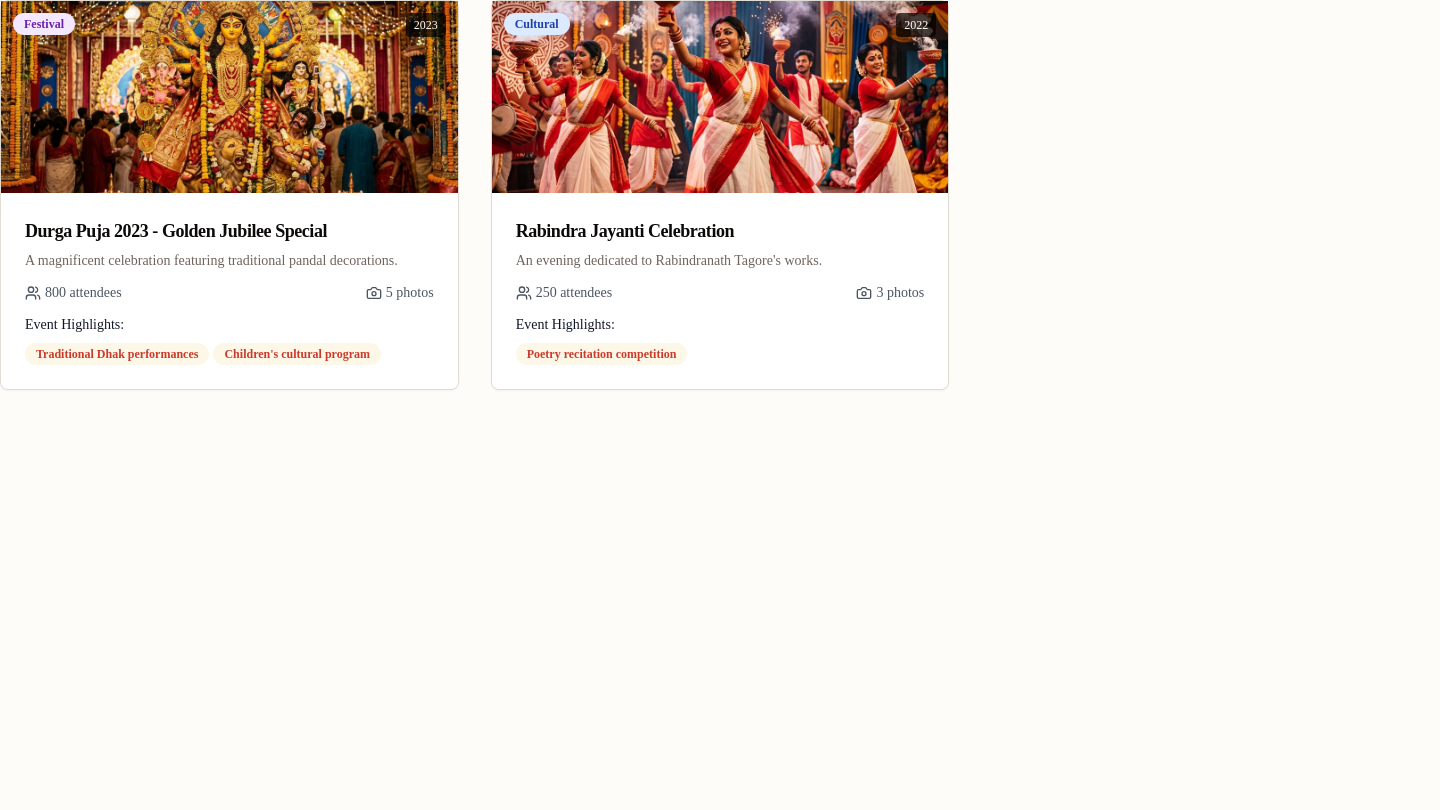
it: PastYearsGallery Component › opens full image viewer when a thumbnail inside modal is clicked
This screenshot has width=1440, height=810.
Open modal
Click the text "Durga Puja 2023 - Golden Jubilee Special".
click(176, 231)  # box x1=25 y1=221 x2=327 y2=241
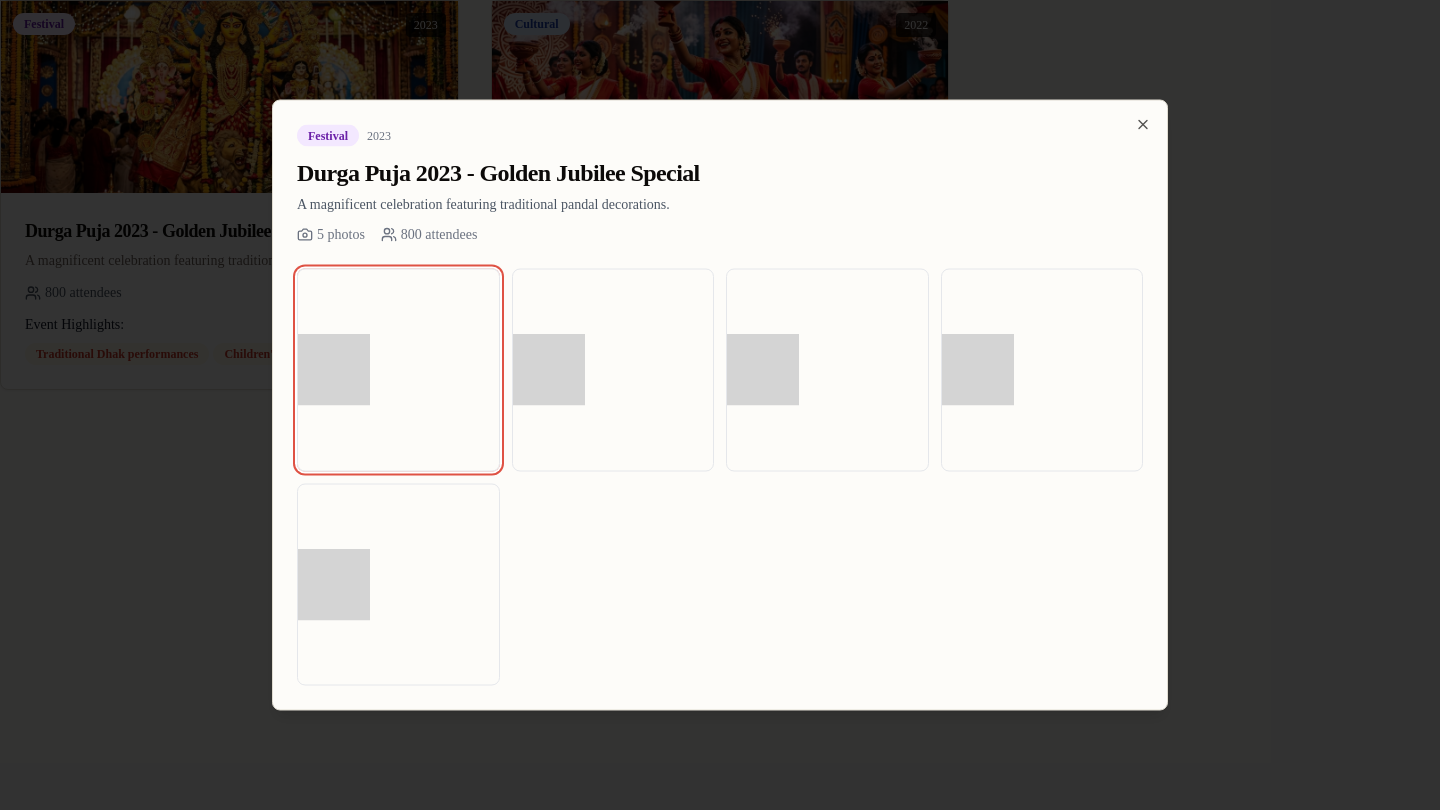
Click the first thumbnail in modal
Click the 2nd button named "Event photo".
click(398, 370)  # box x1=297 y1=268 x2=500 y2=471
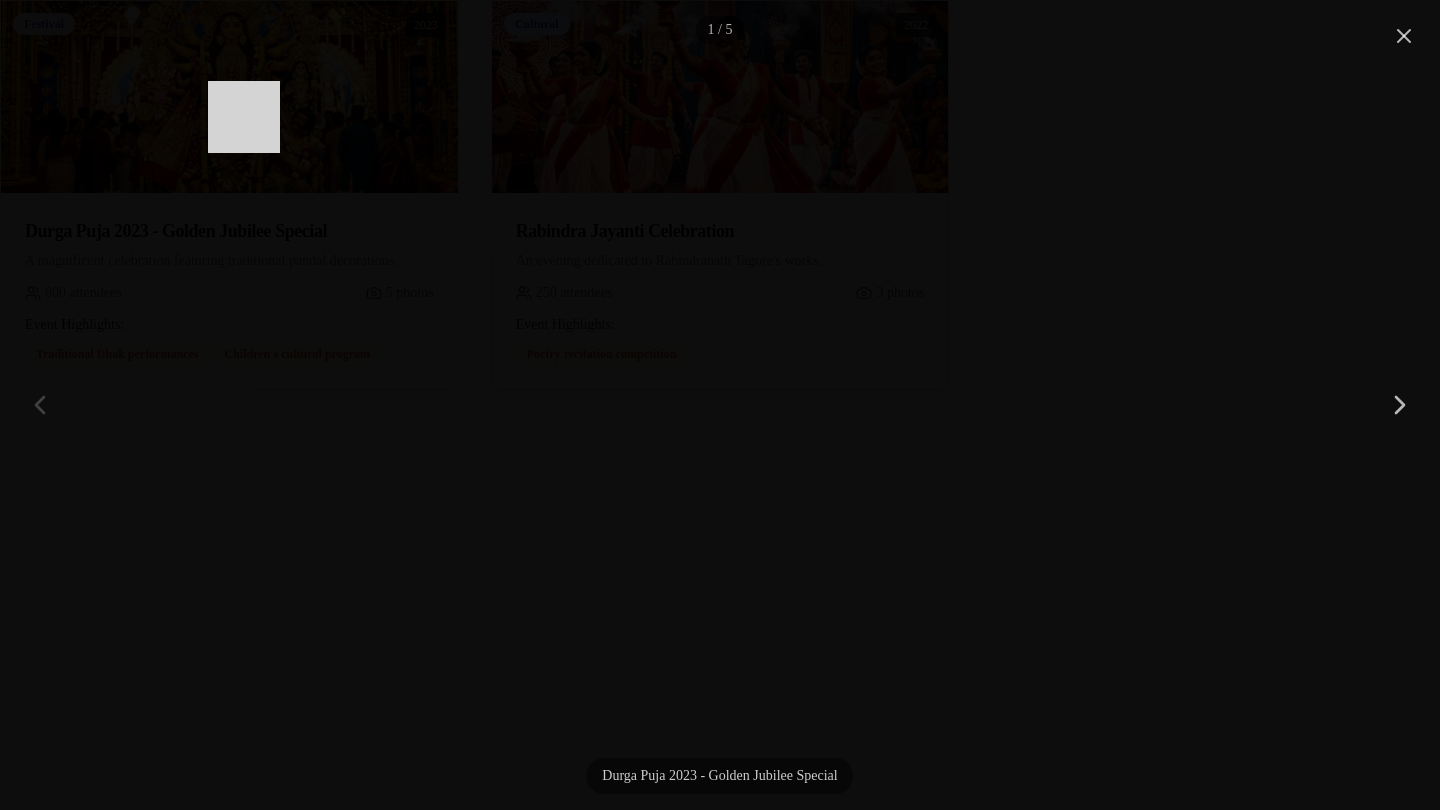
expect the text "1 / 5" is shown: met, box x1=696 y1=16 x2=744 y2=44
expect the button named "Next image" is shown: met, box x1=1376 y1=381 x2=1424 y2=429
expect the button named "Previous image" is shown: met, box x1=16 y1=381 x2=64 y2=429
